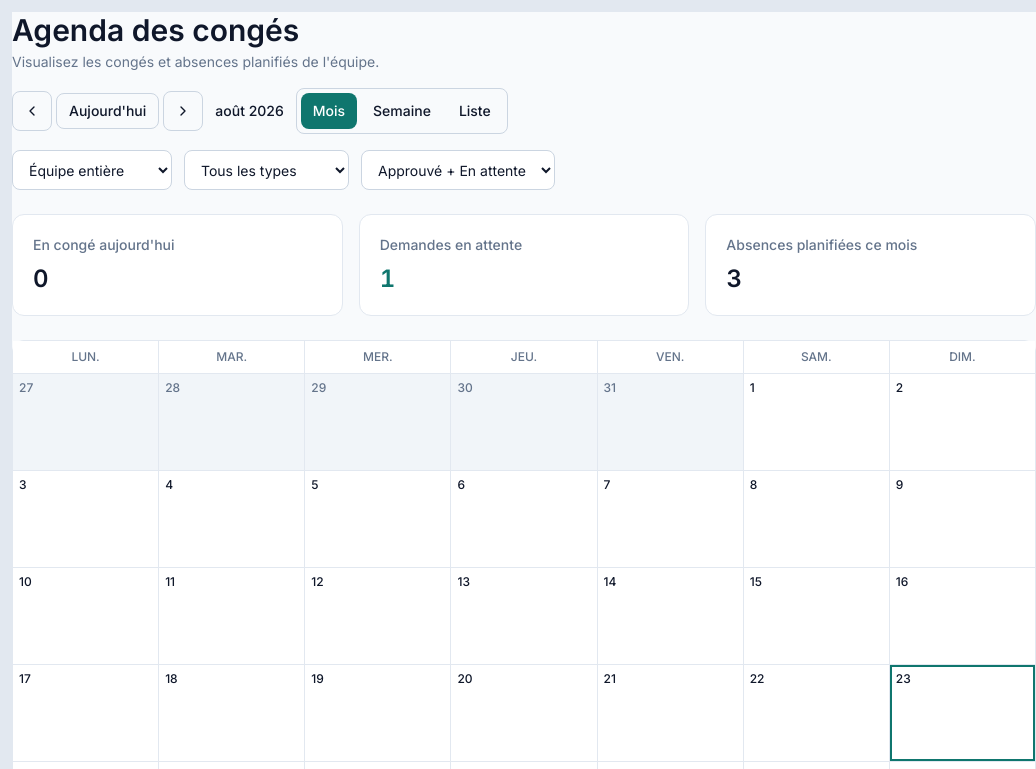
Scenario: TeamLeaveCalendarPage — filters (task §40 10-12, §14/§15/§16) › Pending leave is visible under the default operational filter (task §40 14)
The image size is (1036, 769).
Click the button named "Période suivante" at [183, 111], box [163,91,203,131]
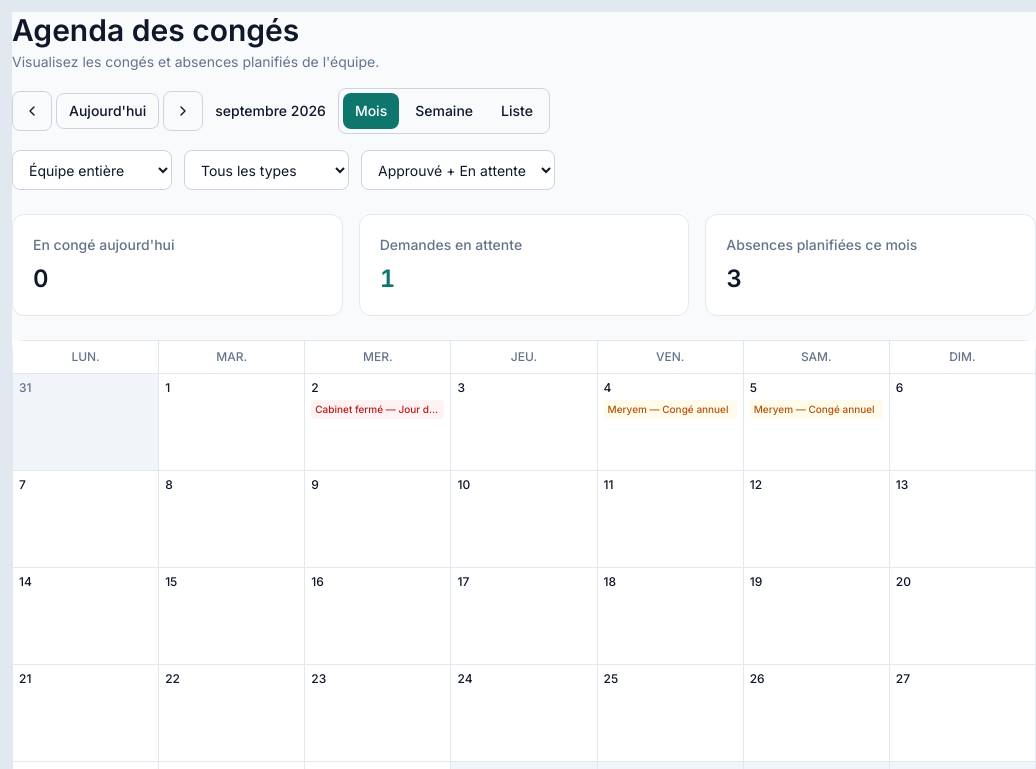
Result: the text "septembre 2026" is shown at [215,101,326,121]
